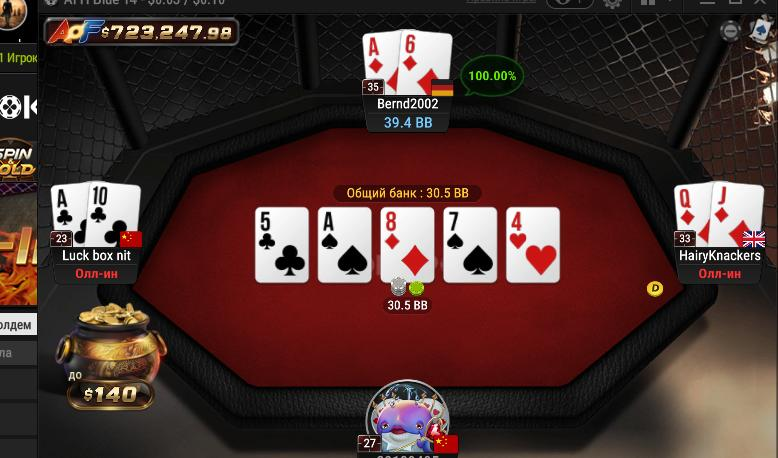10c: (88, 181, 141, 247)
4h: (507, 208, 559, 282)
5c: (256, 208, 309, 282)
6d: (399, 29, 452, 94)
7s: (444, 208, 496, 282)
8d: (381, 206, 434, 281)
Ac: (51, 183, 88, 246)
Ad: (361, 31, 399, 94)
As: (319, 209, 371, 281)
Jd: (711, 180, 762, 248)
Qd: (673, 183, 712, 248)
